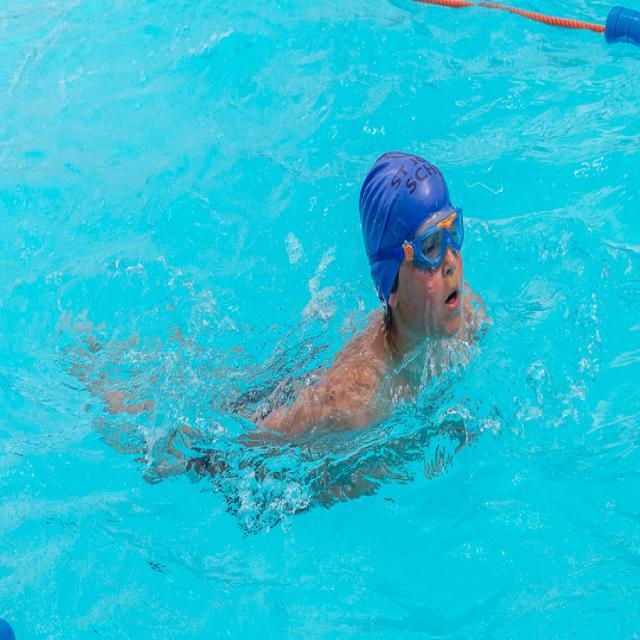Swimming: (270, 147, 501, 439)
